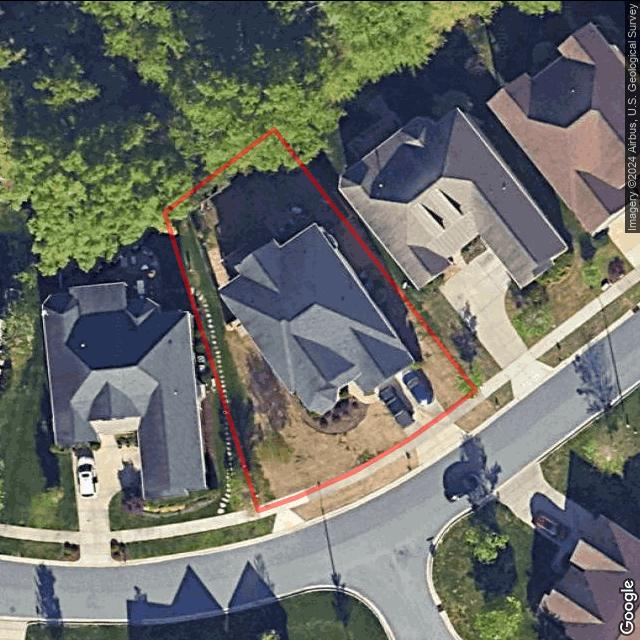Driveway: (376, 365, 445, 437)
Extra-Driveway: (409, 411, 468, 465)
Extra-Lawn: (290, 449, 419, 519), (456, 400, 494, 432), (260, 513, 276, 534)
Extra-Sidewalk: (259, 439, 413, 533), (445, 388, 484, 422)
House: (217, 220, 417, 417)
Lawn: (165, 128, 476, 510)
Other: (297, 380, 367, 433)
Sidewalk: (257, 479, 333, 510), (344, 378, 382, 403)
